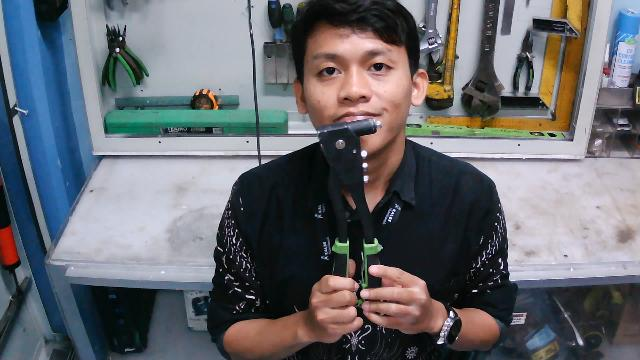tang_rivet: (315, 117, 387, 309)
